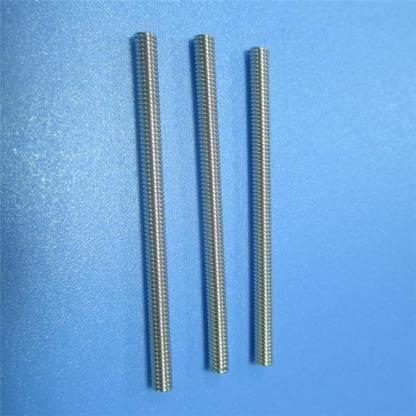FOD: (129, 29, 175, 394)
